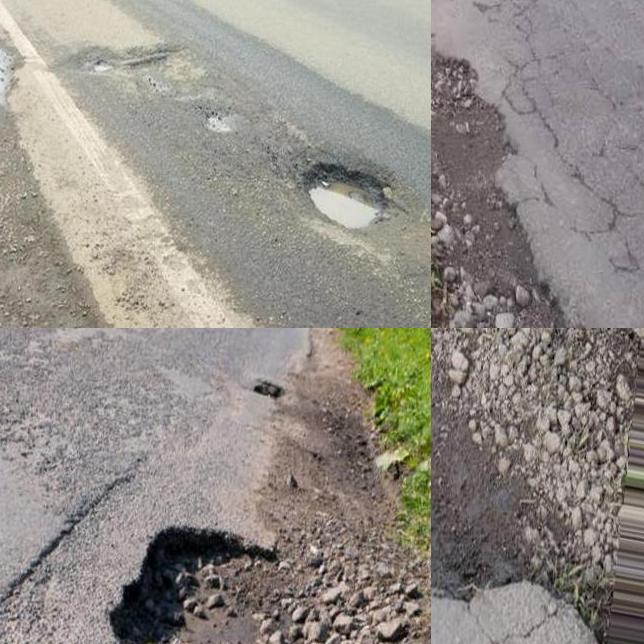Lubang: (306, 163, 389, 223)
Pinggir: (431, 0, 588, 328), (431, 347, 574, 619), (105, 518, 321, 644)
